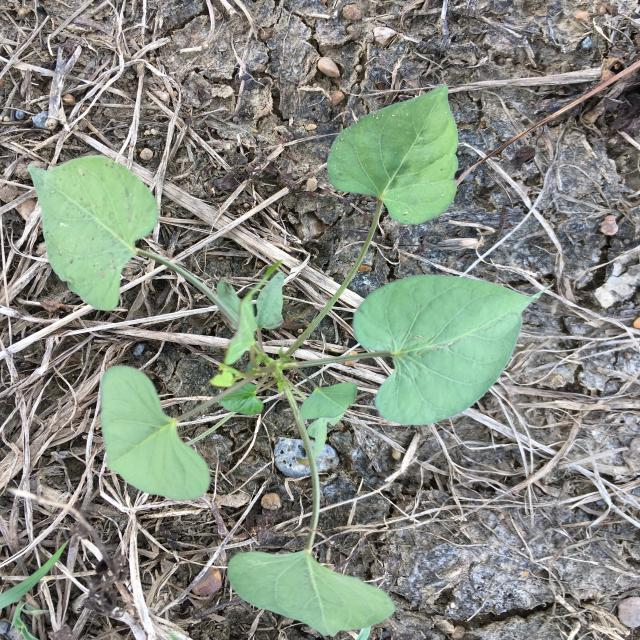MorningGlory: (27, 83, 551, 637)
